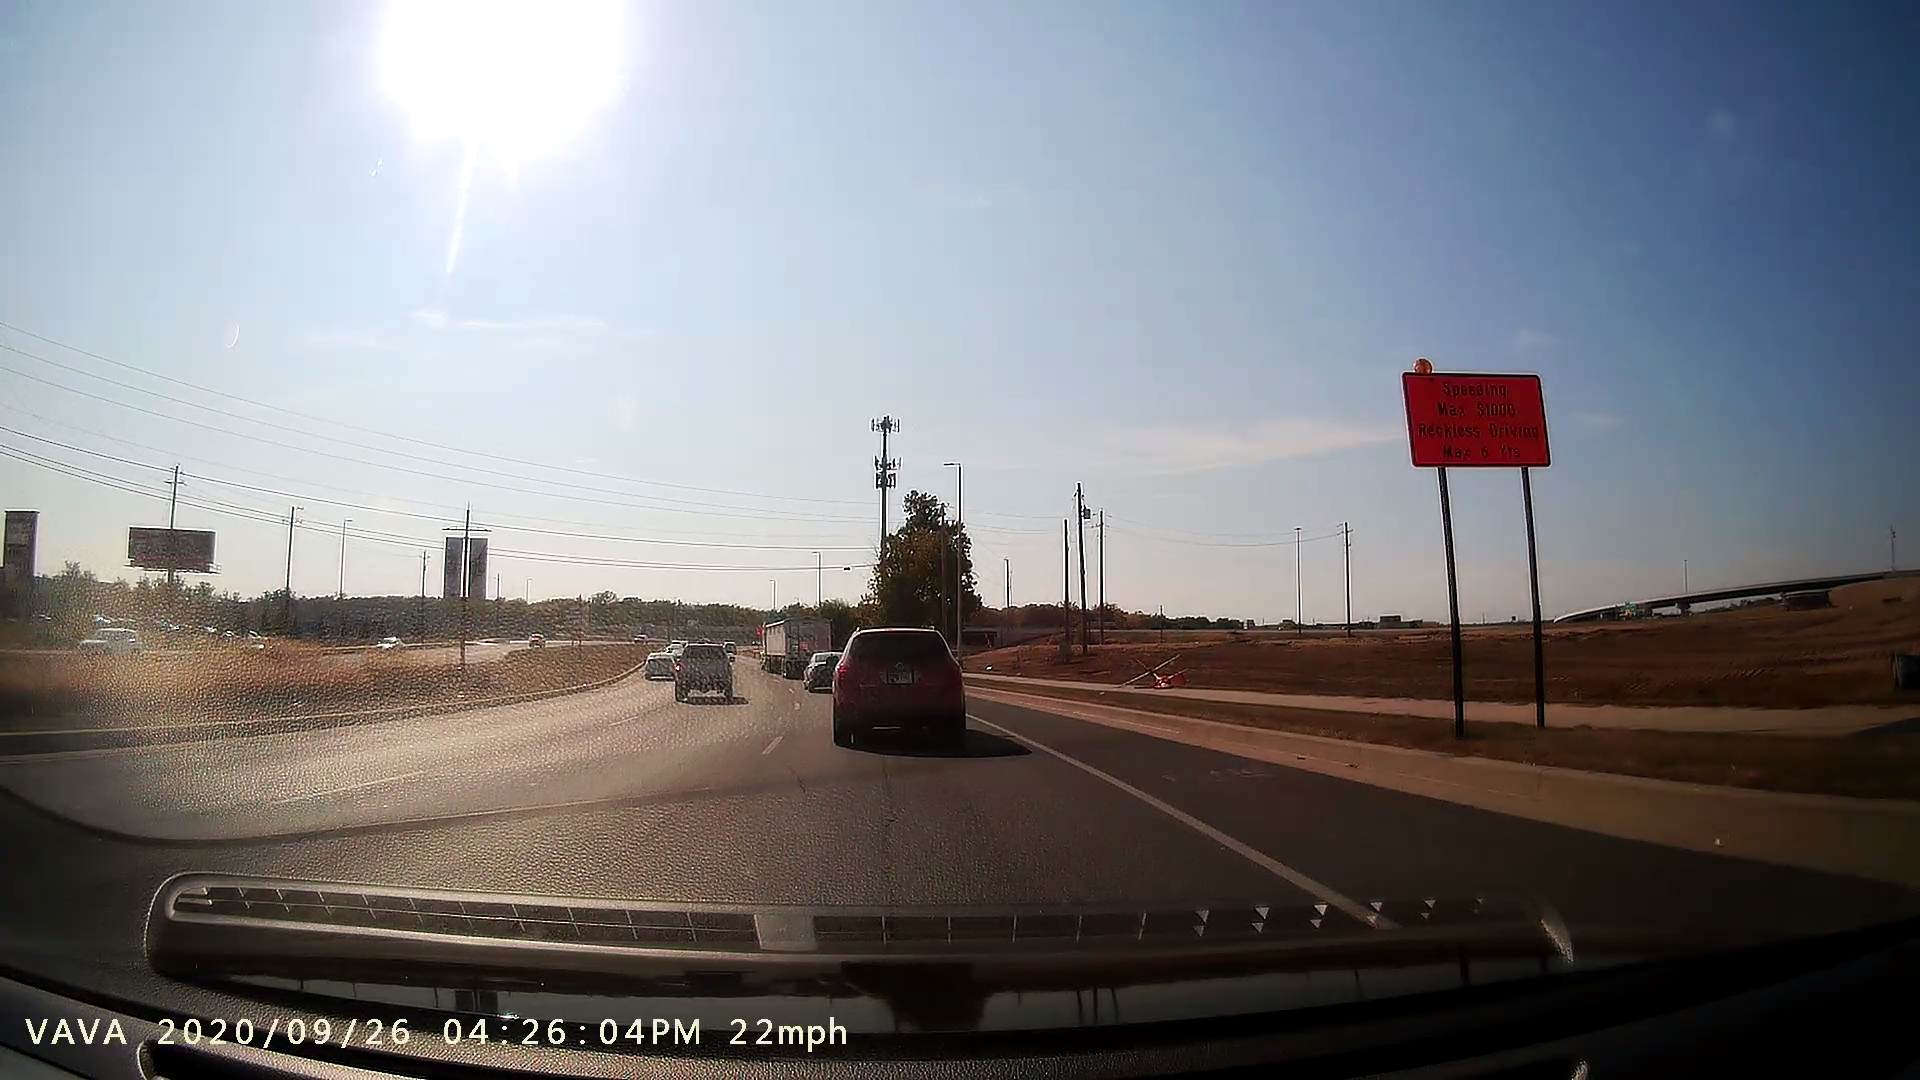temperary_sign: (1389, 339, 1572, 741)
